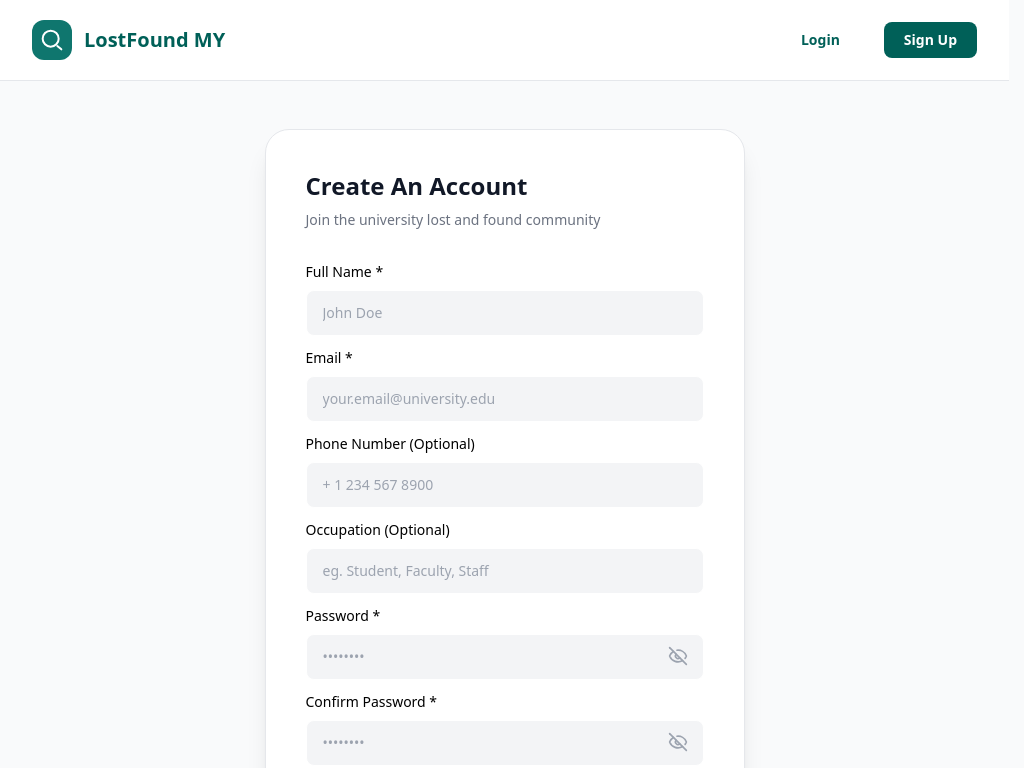
Scenario: Signup Component › shows error when password has no special character
The width and height of the screenshot is (1024, 768).
Type "Test User" into the field with placeholder "John Doe" at coordinates (504, 313), box [306, 290, 704, 336]
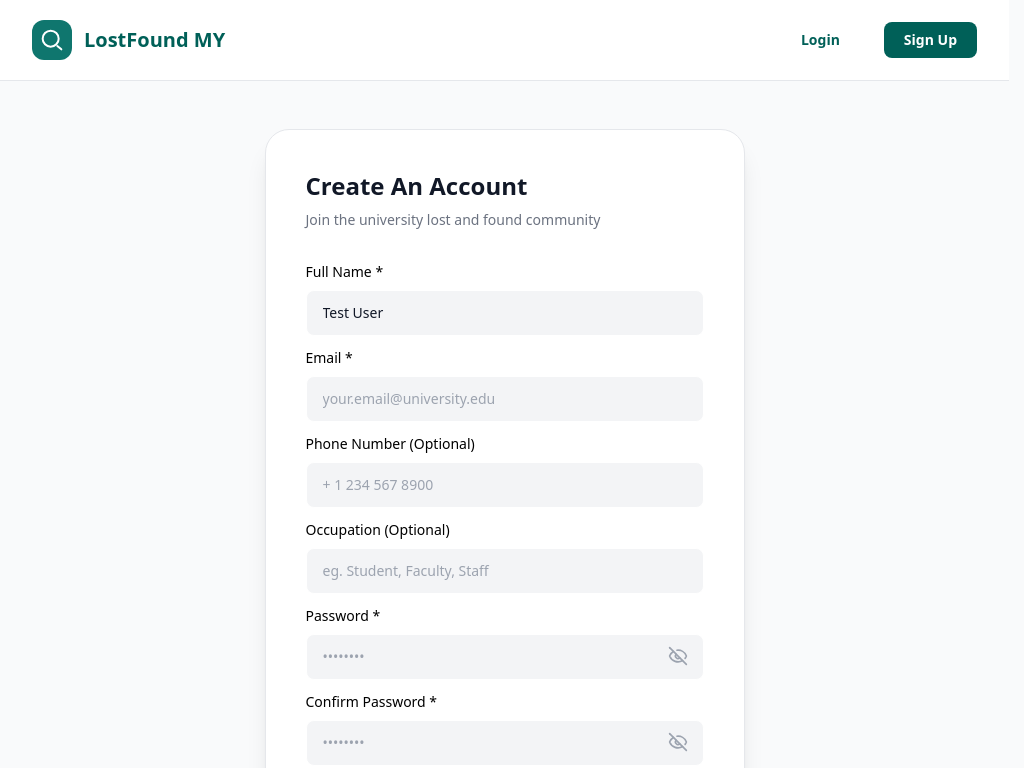
Type "test@example.com" into the field with placeholder "your.email@university.edu" at coordinates (504, 399), box [306, 376, 704, 422]
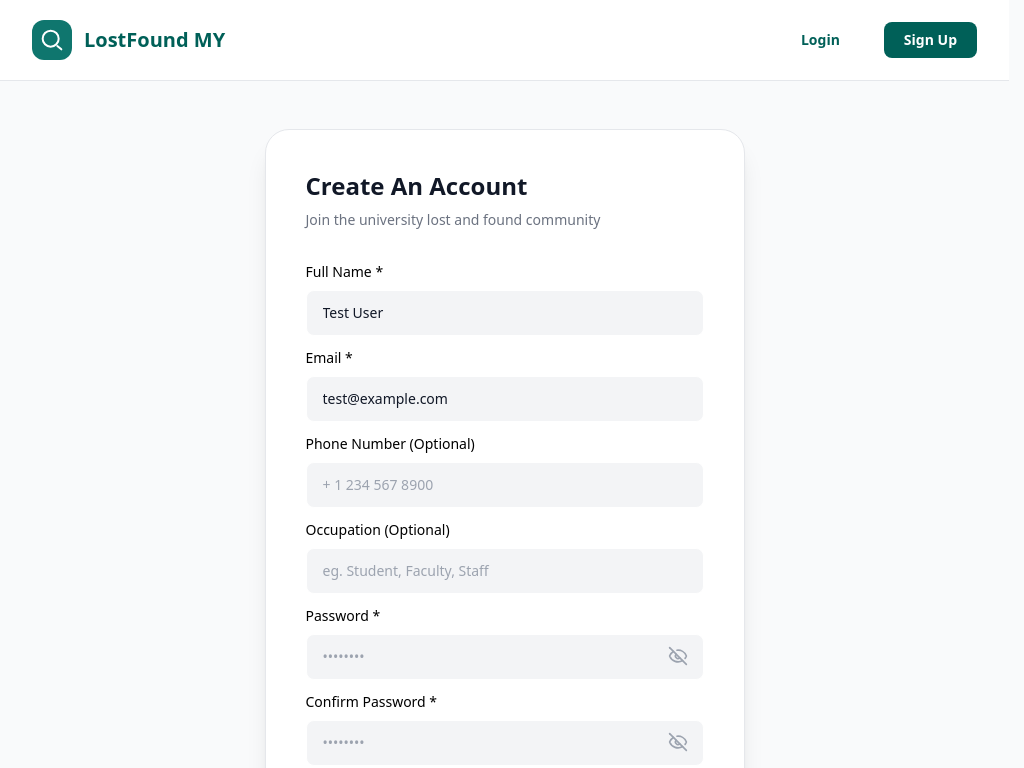
Type "Password123" into the 1st password field with placeholder "••••••••" at coordinates (504, 657), box [306, 634, 704, 680]
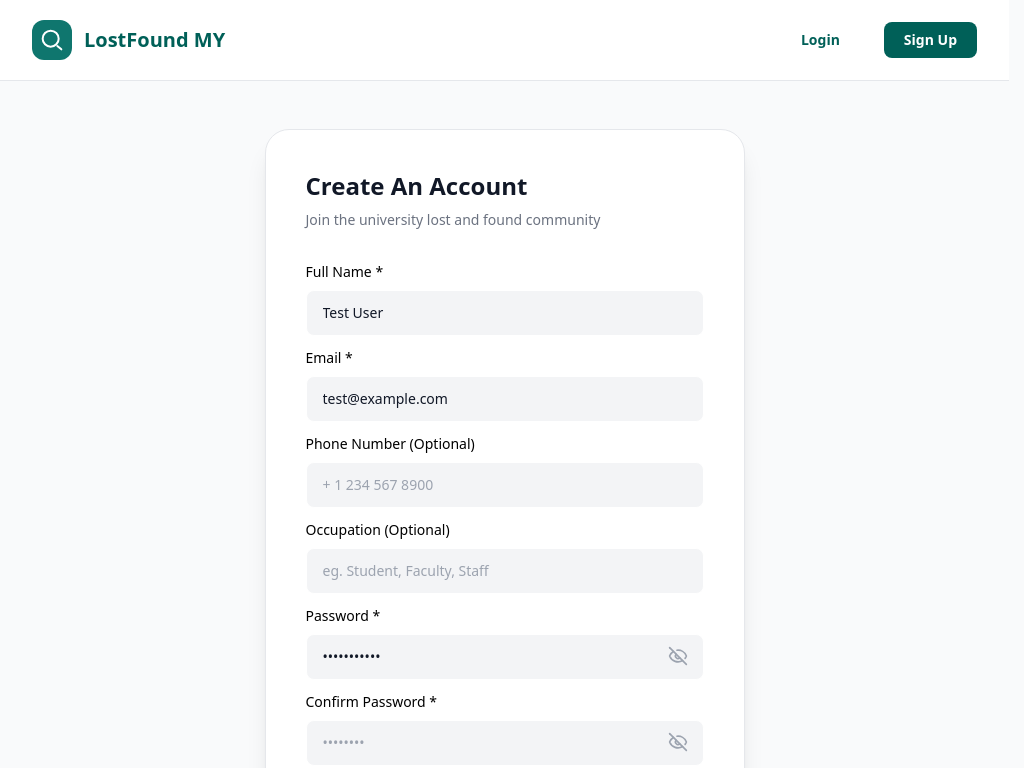
Type "Password123" into the password field with placeholder "••••••••" at coordinates (504, 743), box [306, 720, 704, 766]
(page scrolled)
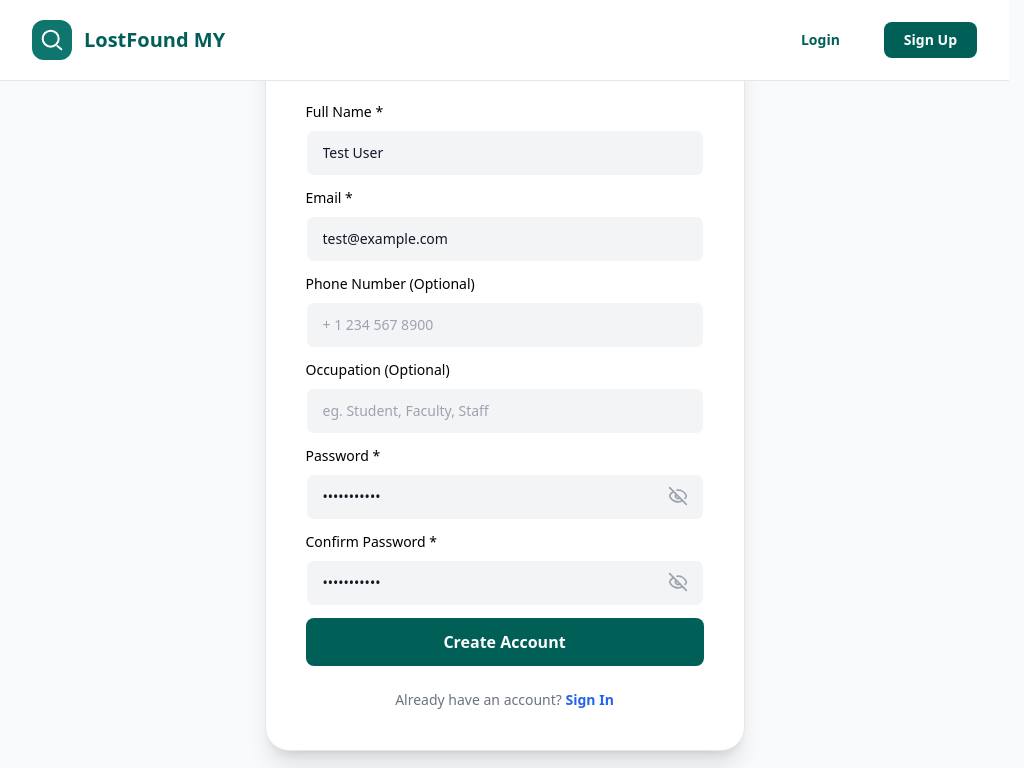
Submit the form named "create account", box [306, 102, 704, 666]
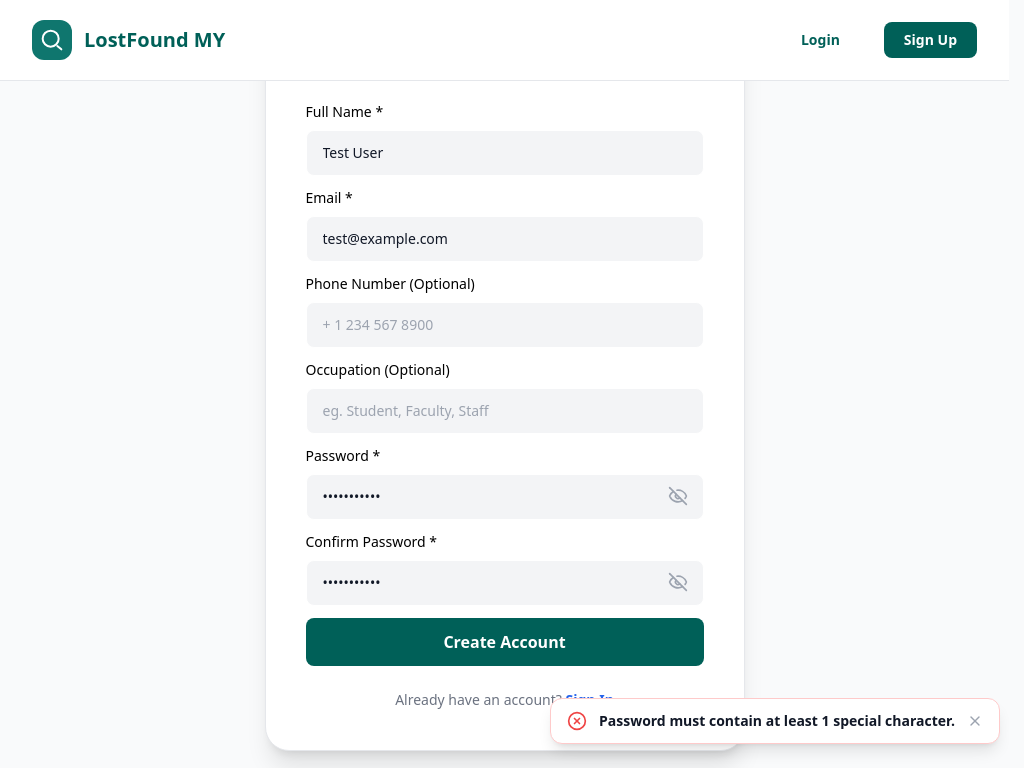
Check: the text "Password must contain at least 1 special character." is shown, box [599, 711, 955, 731]
